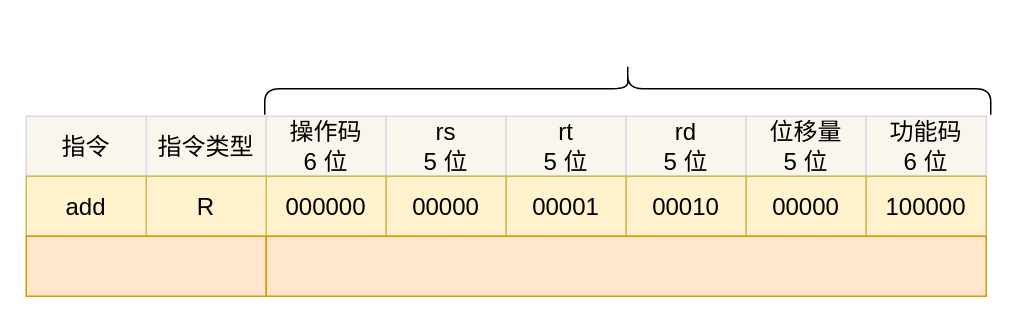
Image size: 1017x323. Some labels were removed from this diagram. Here are the shapes that lost their labels. From the top down, the centre of each, then its label:
At (627,88): "32 位".
At (145,265): "十六进制表示".
At (625,265): "0x00011020".
